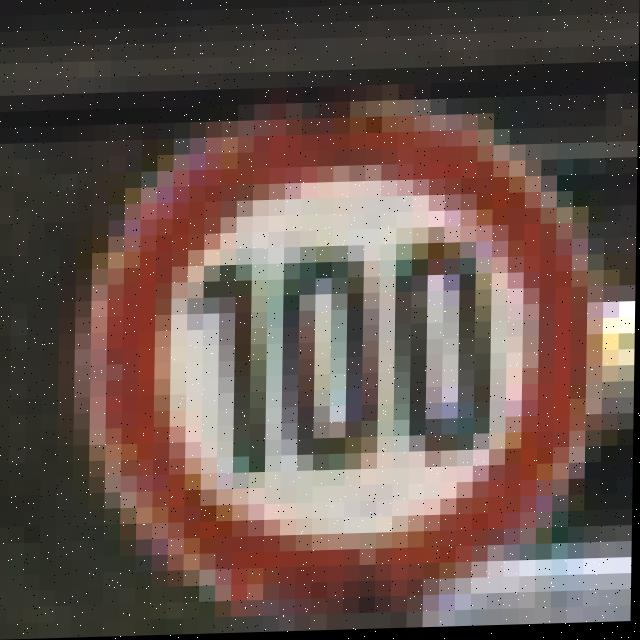speed_limit_100: (93, 98, 591, 623)
